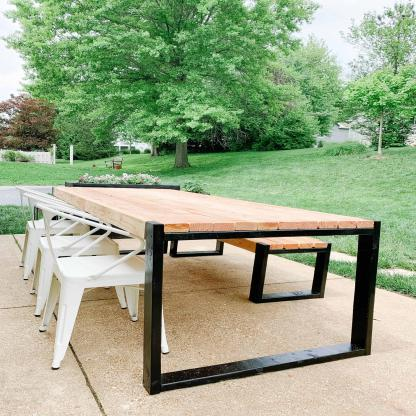table: (49, 180, 384, 400)
